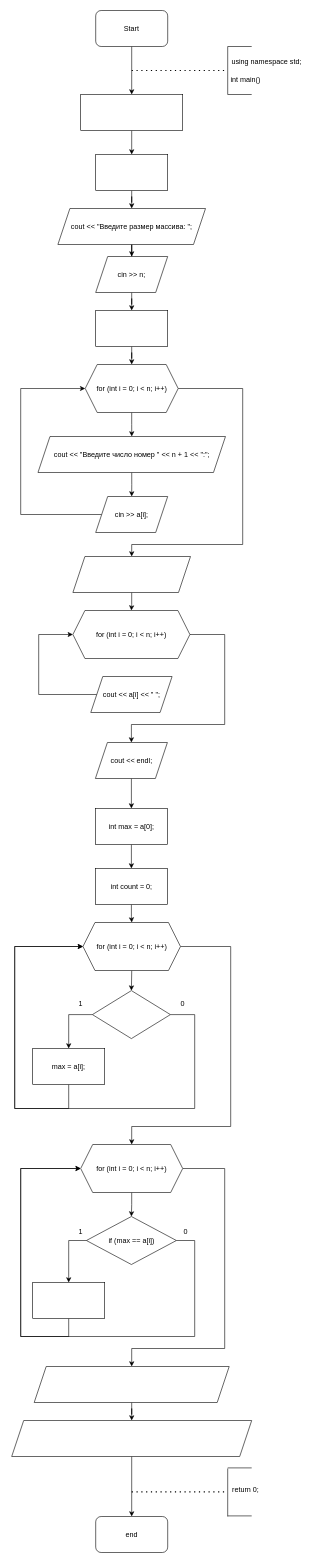
The diagram is 328 pixels wide and 1563 high, and some of its shapes have lost their labels. The shapes that lost their labels are listed below. From the top down, each one's centre as x and y in pixels, then its label:
(x=131, y=112): setlocale(LC_ALL, "Russian");
(x=131, y=172): int n;
(x=131, y=328): int a[100];
(x=131, y=574): cout << "Массив: ";
(x=131, y=1014): if (max < a[i])
(x=68, y=1300): count++;
(x=131, y=1384): cout << "Максимальный элемент: " << max << endl;
(x=131, y=1438): cout << "Количество таких элементов: " << count << endl;
